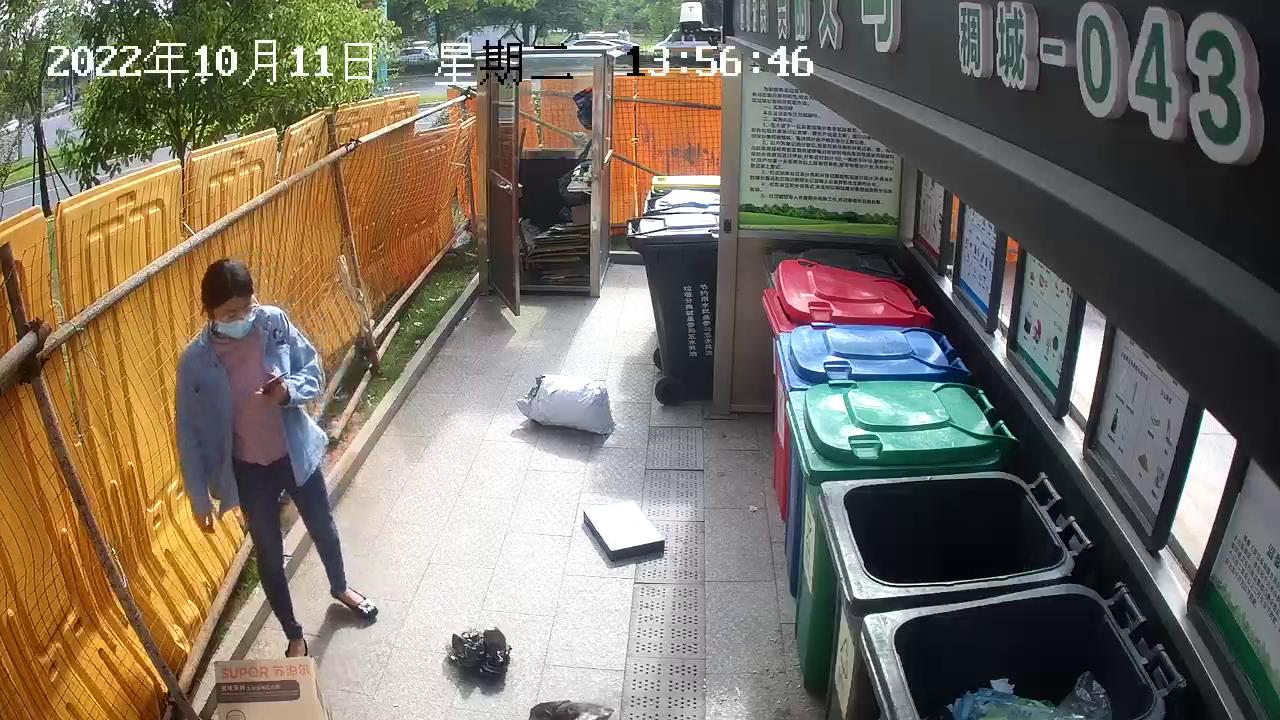garbage: (514, 370, 621, 441), (447, 620, 517, 683)
worker: (169, 254, 385, 662)
zhizhipin: (207, 652, 341, 720)
